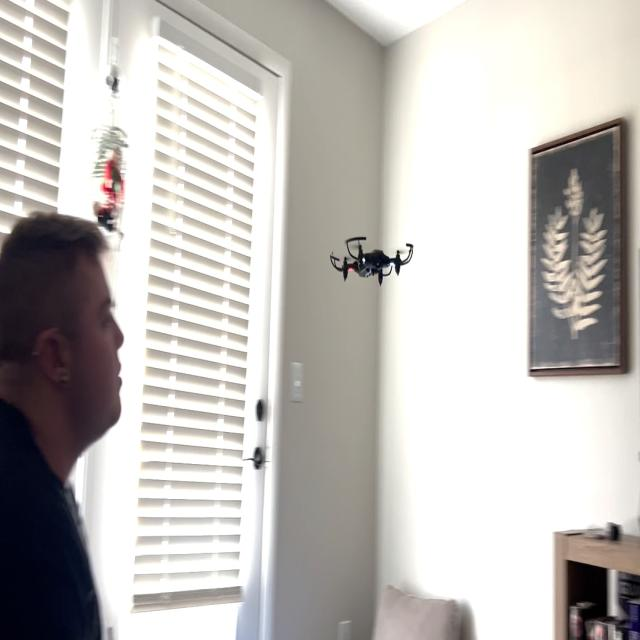drone: (323, 215, 426, 298)
